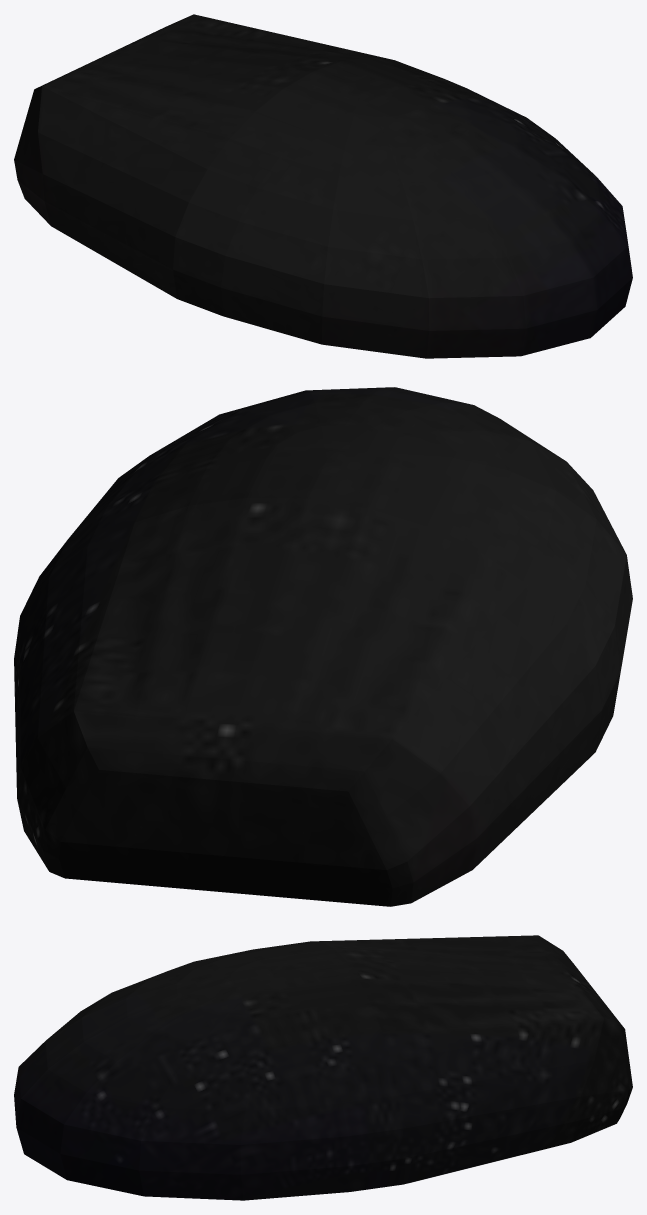
Rendered from mouse.glb.
The picture shows the model from 3 angles, top to bottom: view 1: azimuth 30°, elevation 25°; view 2: azimuth 150°, elevation 25°; view 3: azimuth 270°, elevation 25°; orthographic projection. The views are drawn at different scales.
Visible parts, largest first — view 1: mouse; view 2: mouse; view 3: mouse.
Part boxes in pixels (x1,y1,x2,y2): mouse: (14, 14, 632, 358); mouse: (14, 387, 632, 906); mouse: (14, 935, 632, 1200).
Size of the model in its own units: 0.8362 by 0.3193 by 1.22.
1 material, 1 textured.
